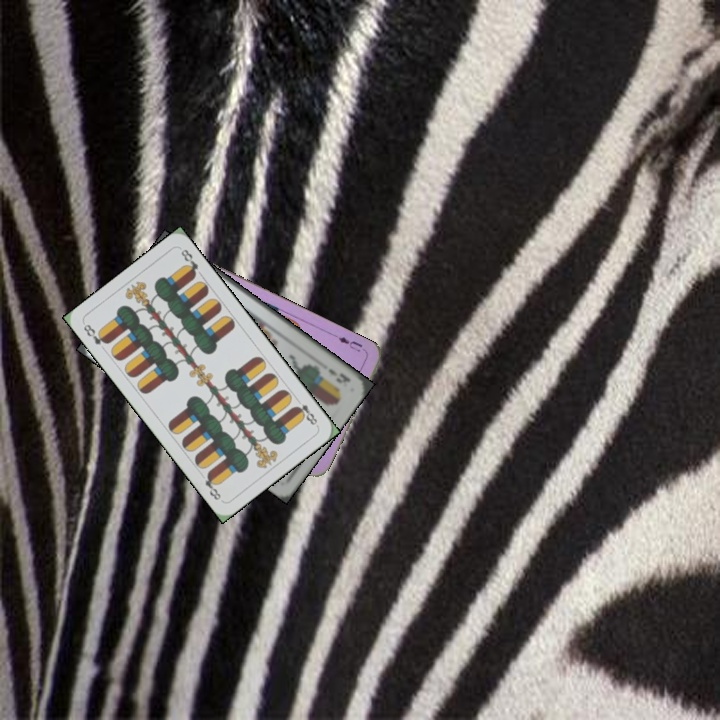E8: (290, 394, 320, 429), (79, 320, 112, 348)
EK: (324, 365, 353, 386)
EU: (331, 332, 369, 356)
